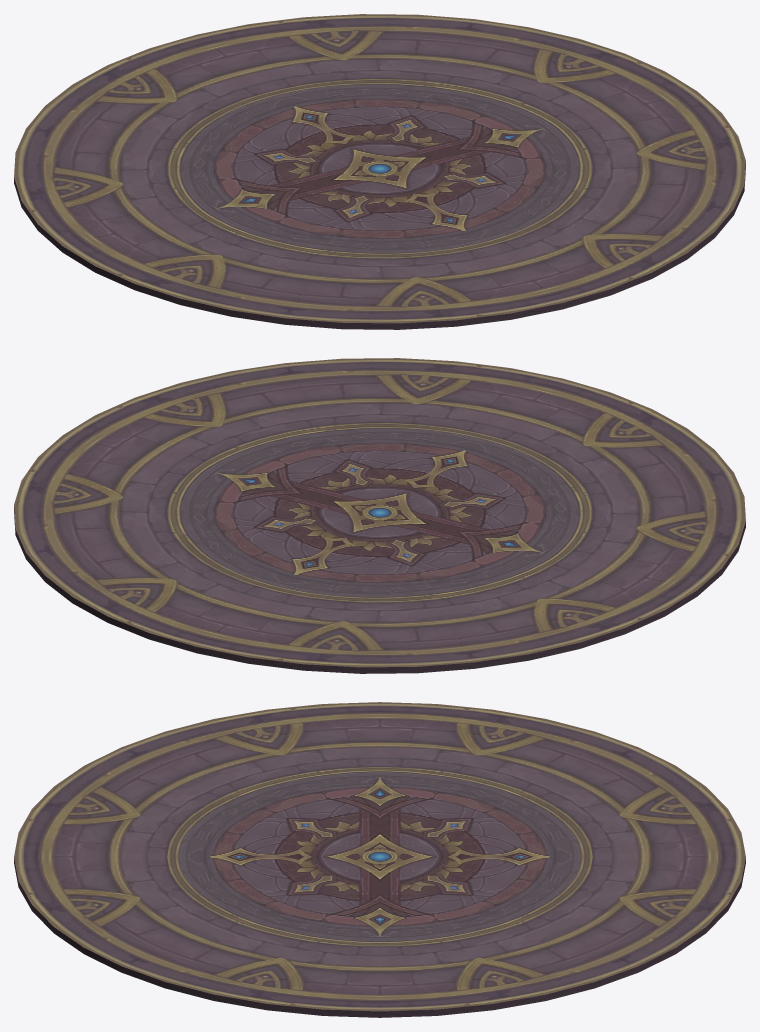
Rendered from SD_xs_taizi02.FBX.
3 views of the same model, one above another, from view 1: azimuth 30°, elevation 25°; view 2: azimuth 150°, elevation 25°; view 3: azimuth 270°, elevation 25° (orthographic).
Visible parts, largest first — view 1: SD_xs_taizi02; view 2: SD_xs_taizi02; view 3: SD_xs_taizi02.
Boxes of the visible parts, <box> form: SD_xs_taizi02: <box>14,14,745,329</box>; SD_xs_taizi02: <box>14,358,745,673</box>; SD_xs_taizi02: <box>14,702,745,1017</box>.
Bounding box in the file's own units: 353 × 3.42 × 353.
1 material, 1 textured.
